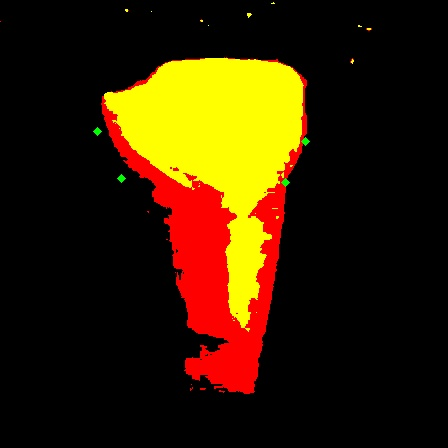coin_1: (121, 178, 141, 198)
coin_2: (97, 131, 117, 151)
coin_3: (285, 182, 305, 202)
coin_4: (305, 141, 325, 161)
